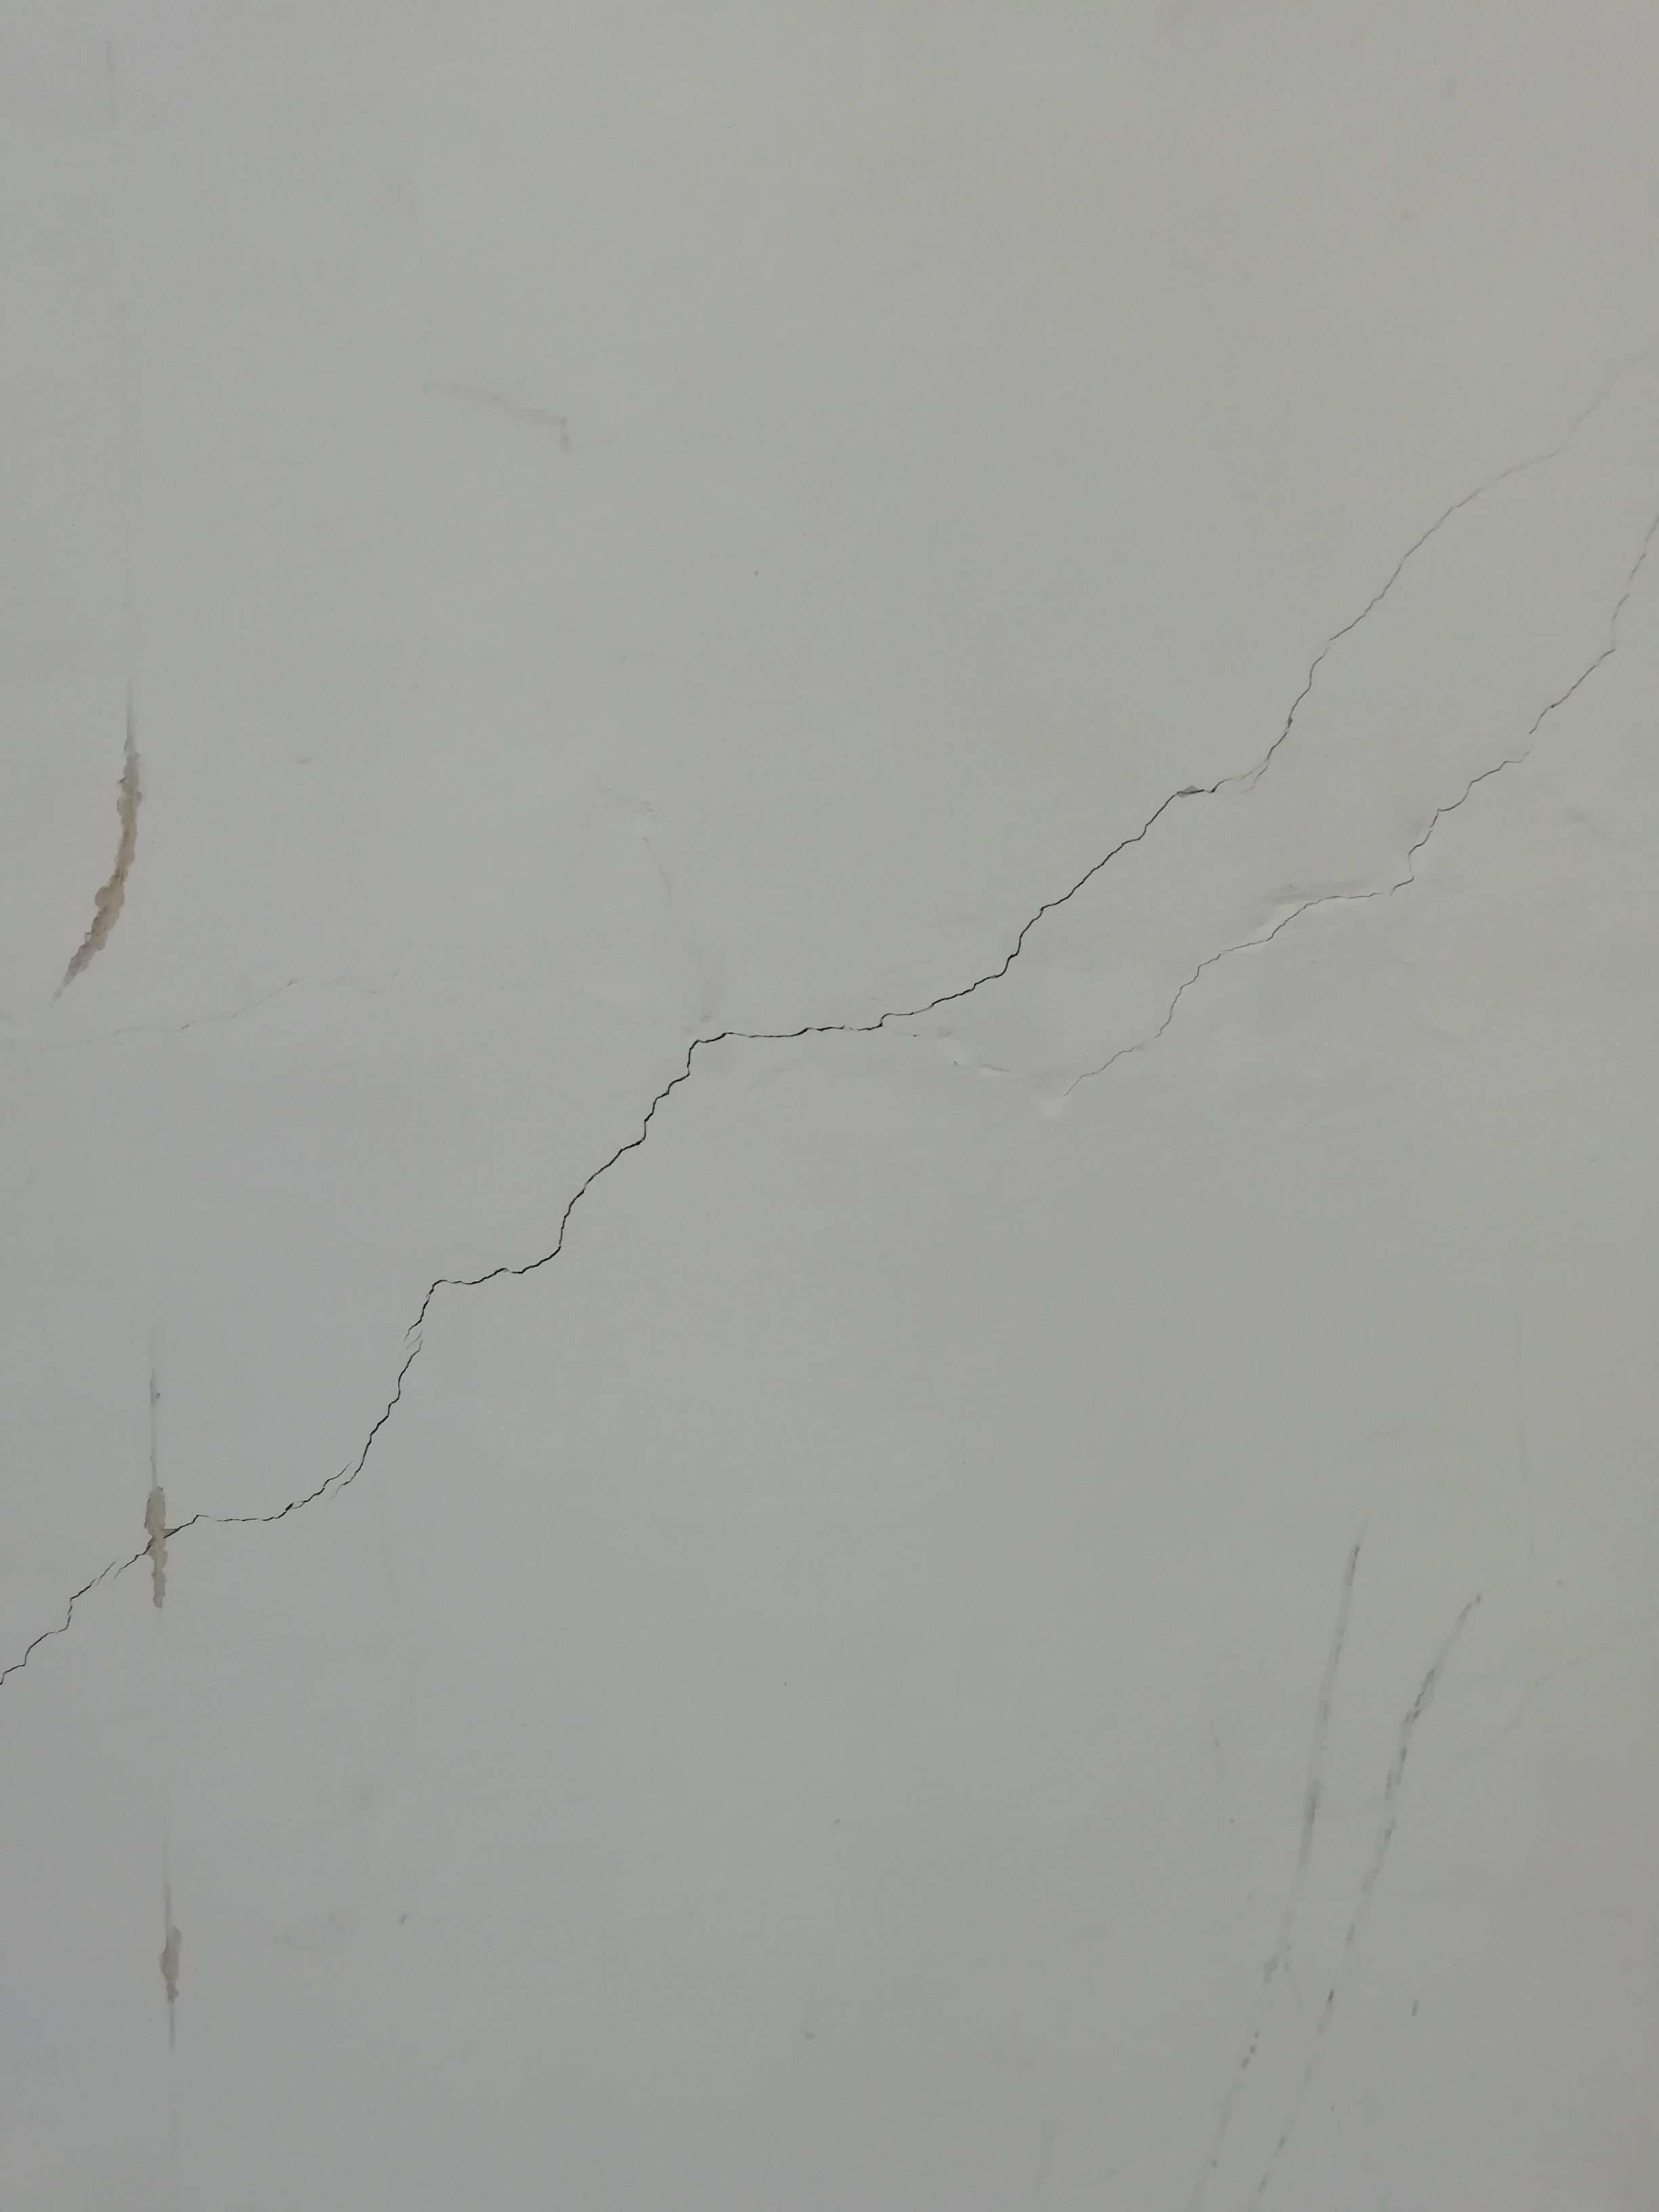Crack: (436, 1019, 831, 1301), (831, 786, 1178, 1035), (1195, 744, 1513, 970)
